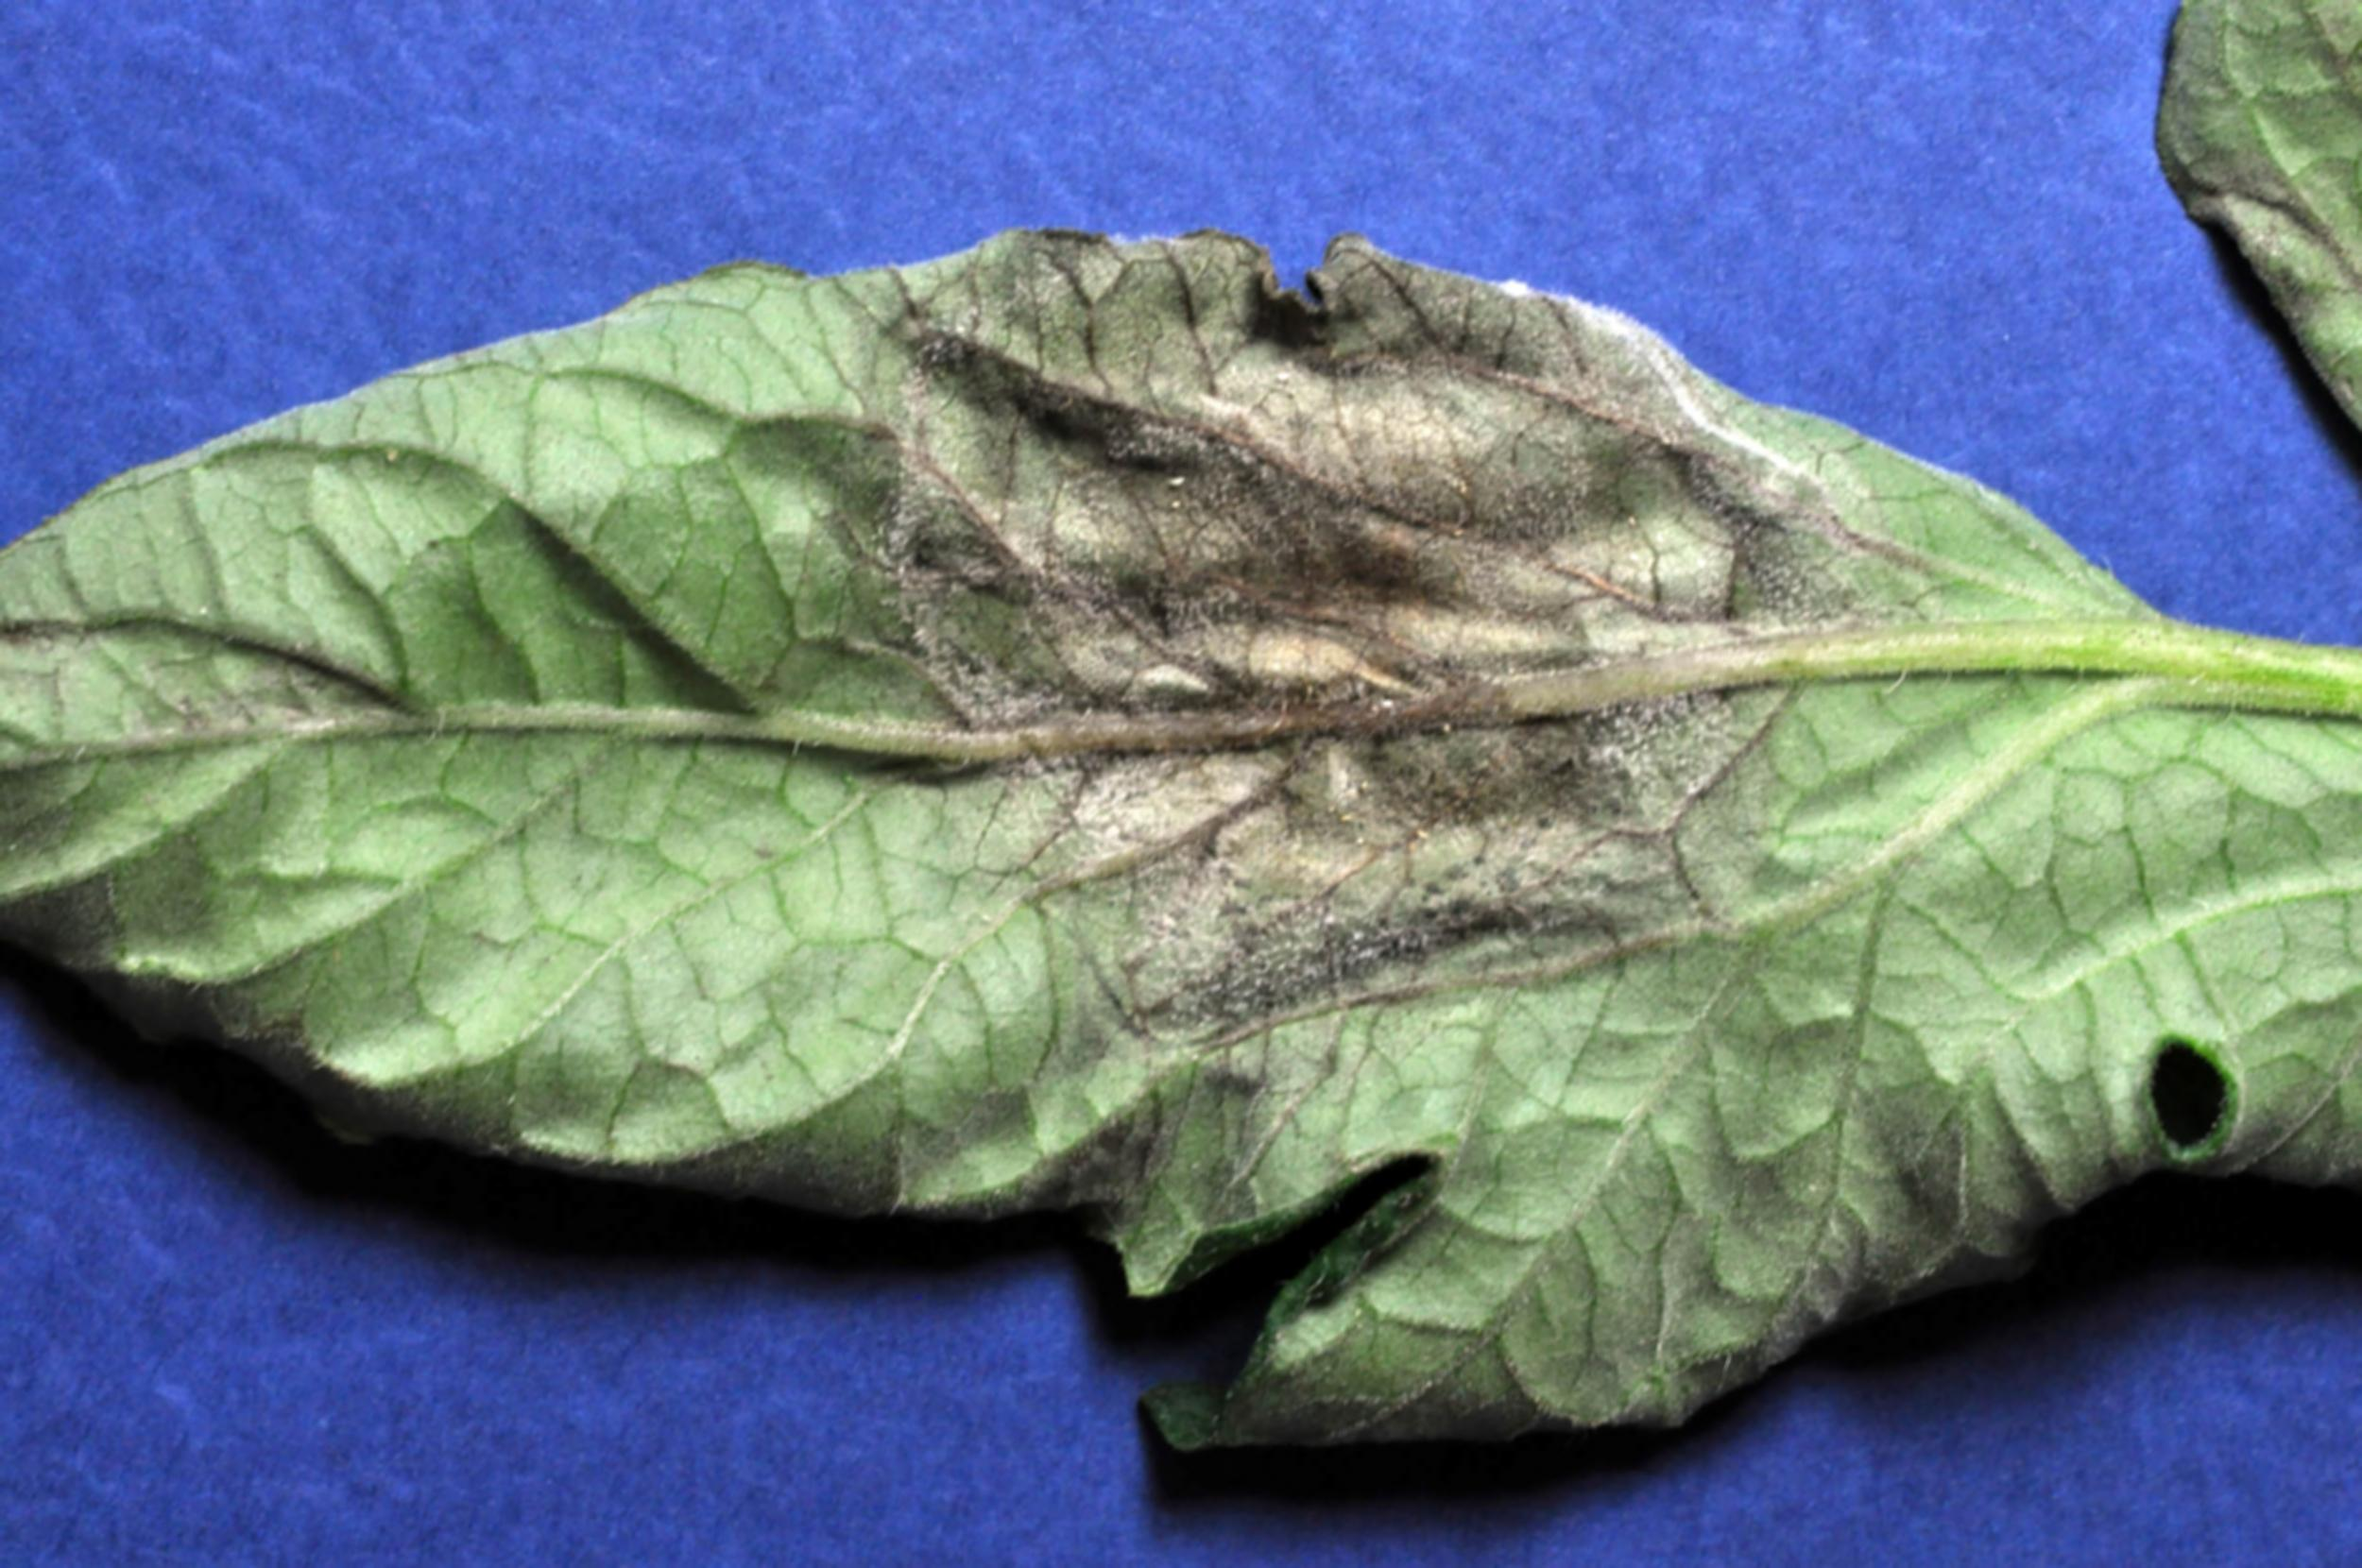Tomato leaf late blight: (0, 255, 2343, 1543)
